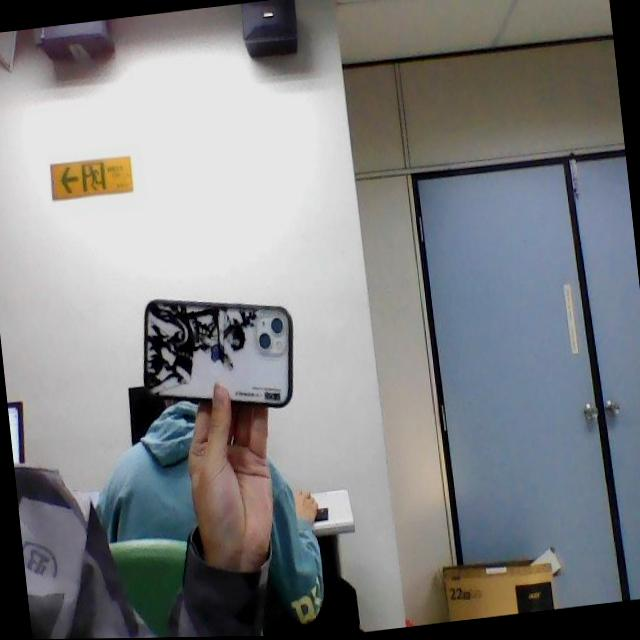Smartphone: (133, 289, 300, 421)
